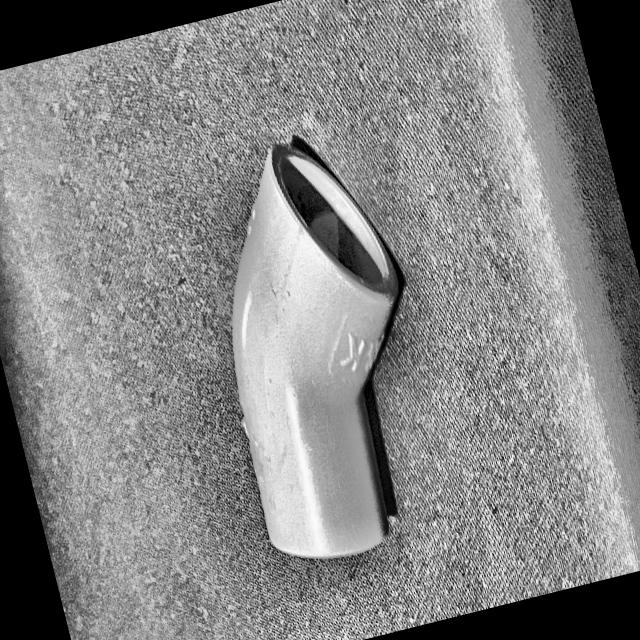ELBOW45: (232, 137, 399, 559)
